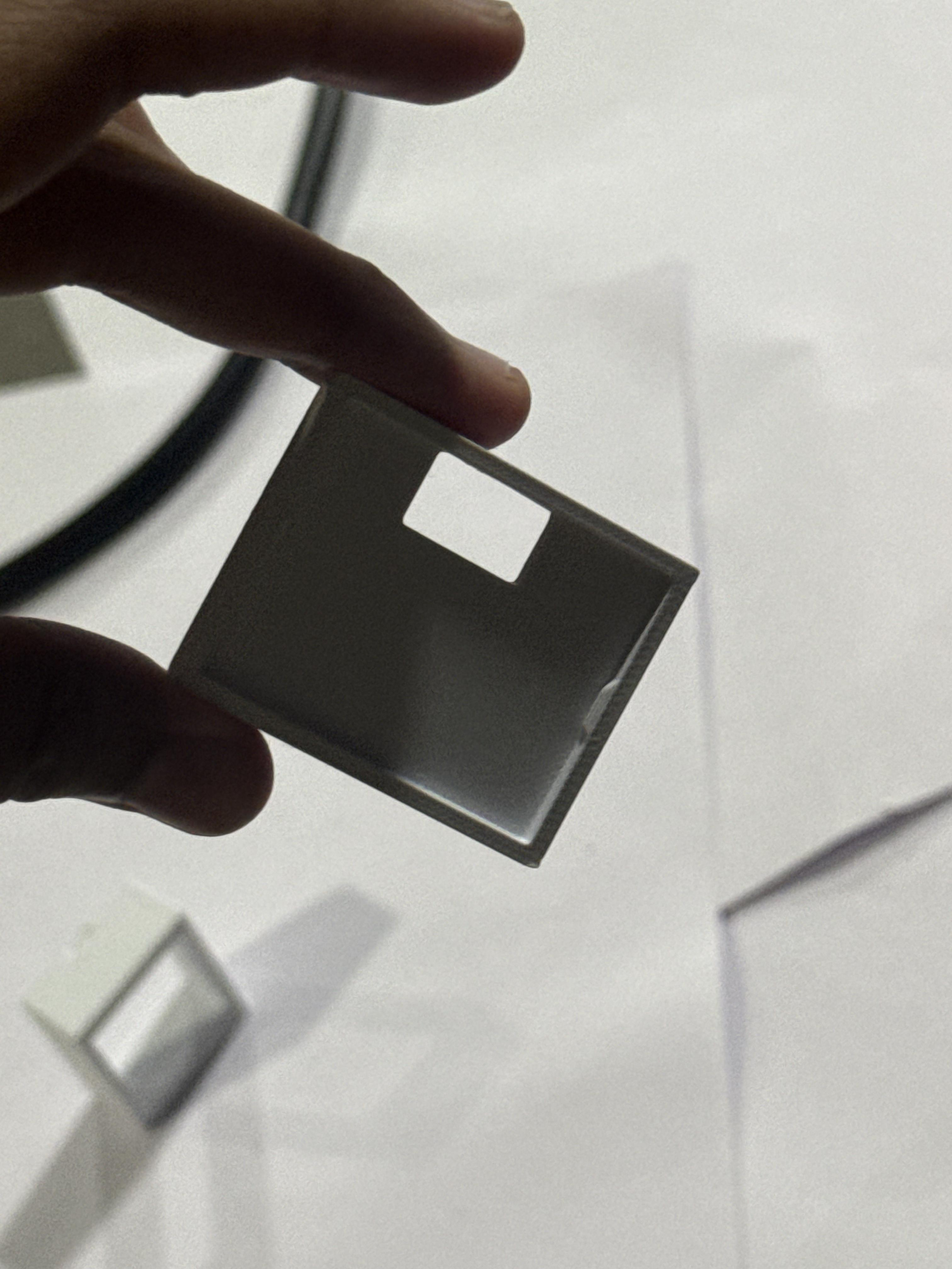enclosure: (167, 372, 701, 870), (20, 900, 253, 1134)
